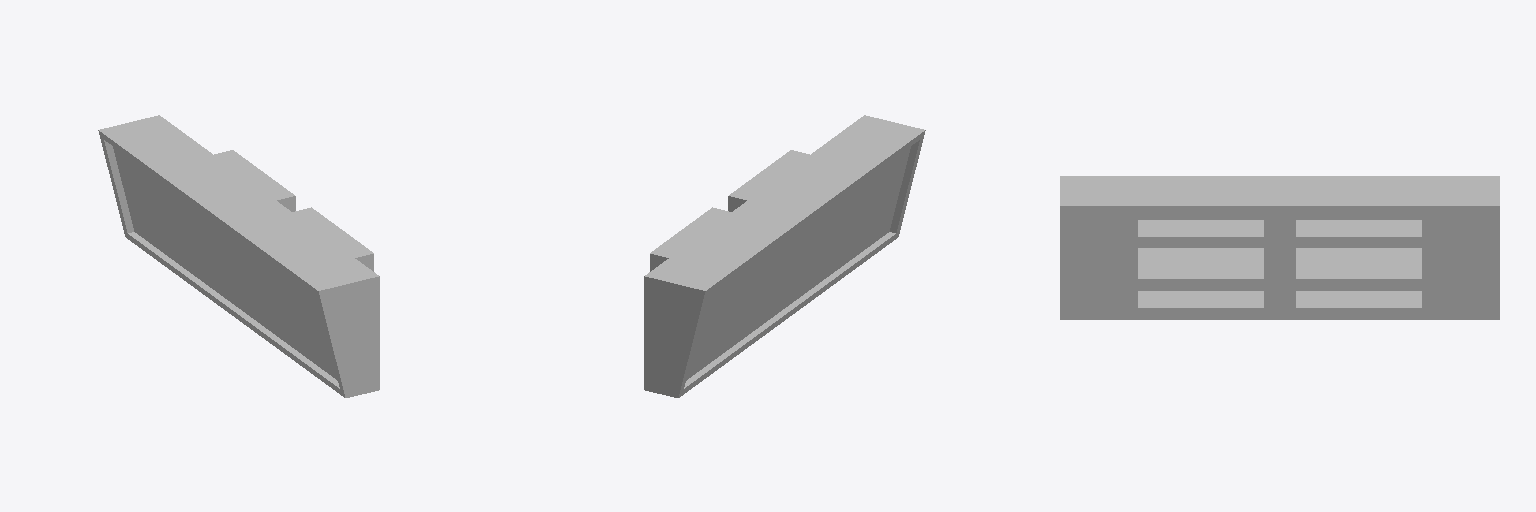
Rendered from worldtile44.obj.
The picture shows the model from 3 angles: view 1: azimuth 30°, elevation 25°; view 2: azimuth 150°, elevation 25°; view 3: azimuth 270°, elevation 25°; orthographic projection.
Visible parts, largest first — view 1: objRegroup09; view 2: objRegroup09; view 3: objRegroup09.
Boxes of the visible parts, box(x1,y1,x2,y2) form: objRegroup09: box(98, 115, 379, 397); objRegroup09: box(644, 115, 925, 397); objRegroup09: box(1060, 176, 1499, 319).
Size of the model in its own units: 7 by 8 by 28.